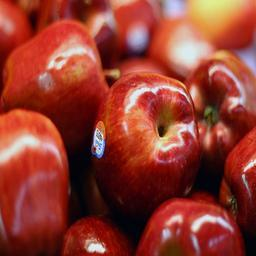apple: (92, 71, 205, 217), (1, 19, 107, 165), (1, 108, 69, 256), (183, 48, 256, 163), (136, 199, 248, 256), (57, 214, 136, 256)
